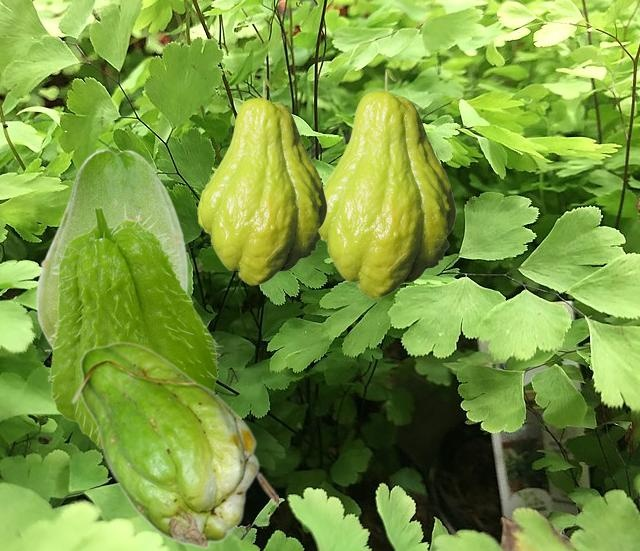sayote: (44, 203, 222, 449), (70, 341, 277, 548), (320, 68, 455, 297), (35, 148, 187, 347), (197, 77, 326, 284)
